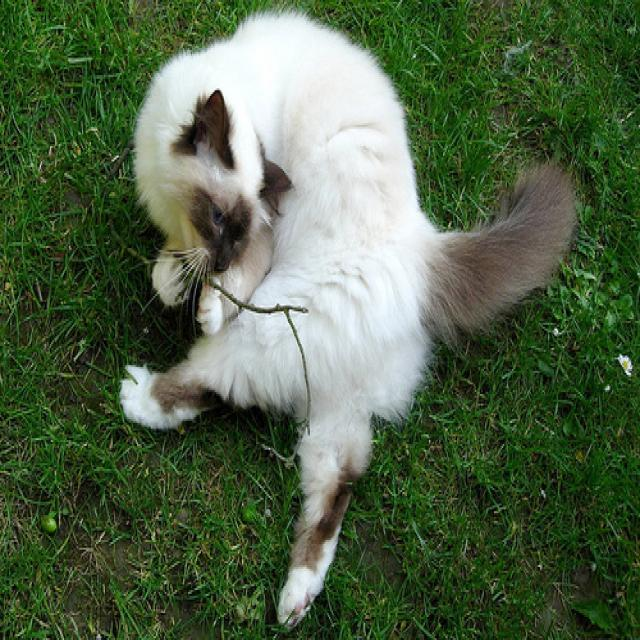Birman: (138, 71, 296, 302)
